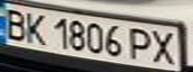0: (84, 20, 106, 55)
1: (45, 15, 72, 49)
6: (103, 22, 127, 58)
8: (66, 17, 87, 52)
B: (0, 6, 30, 40)
K: (21, 10, 51, 46)
P: (124, 25, 157, 62)
X: (148, 27, 181, 65)
